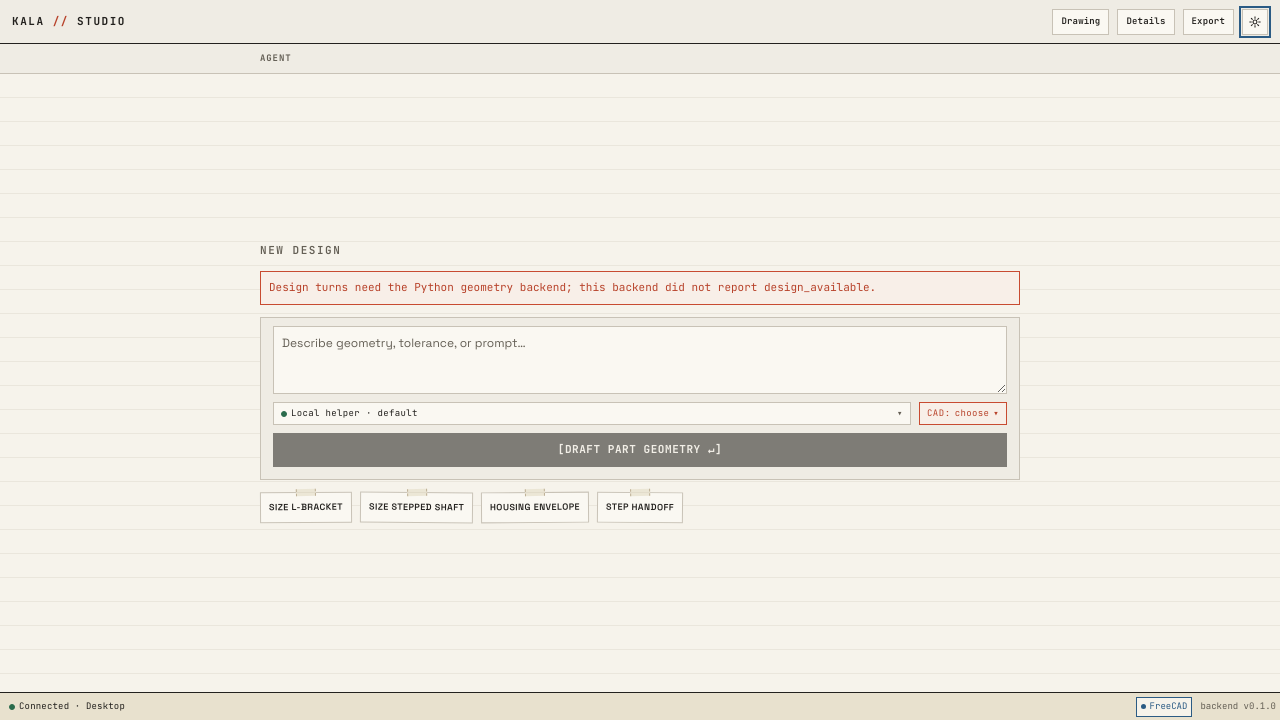
Settings dialog › renders the four sections with the existing panels reachable
Click the button named "Settings". click: (1255, 22)
box: left=1242, top=8, right=1268, bottom=34
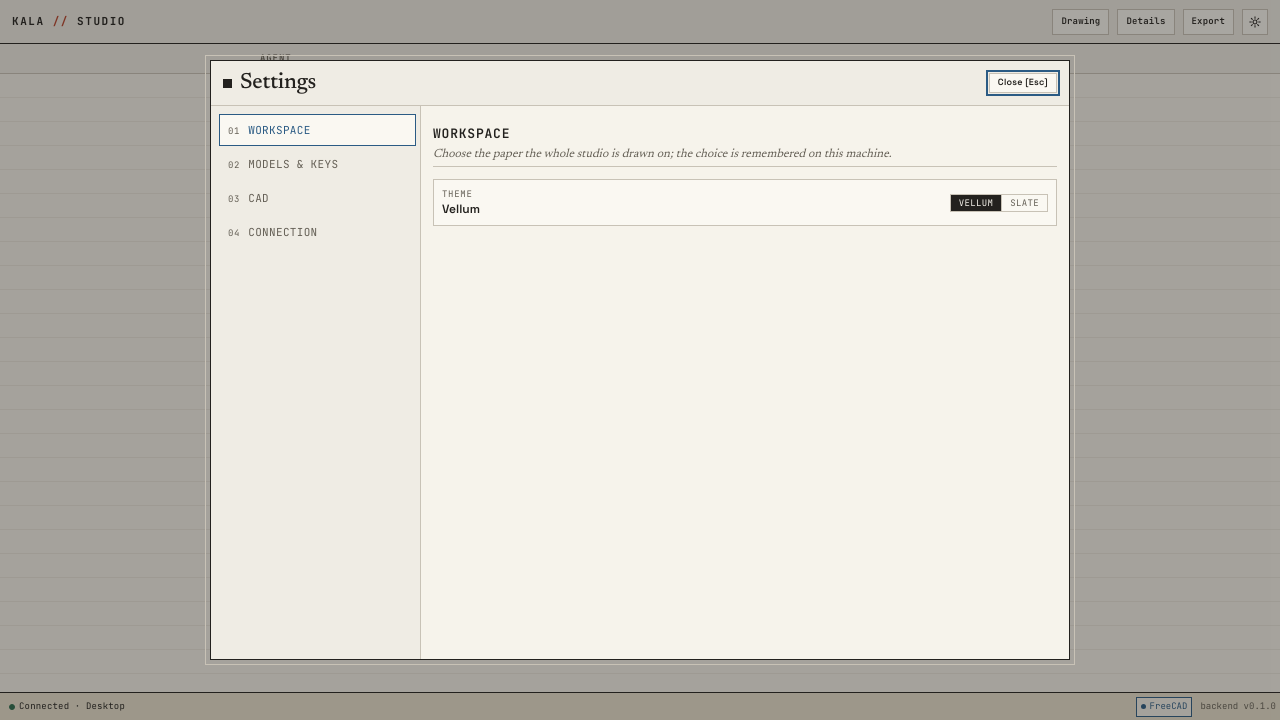
expect the dialog with class "settings-dialog" is shown: met, box left=210, top=60, right=1070, bottom=660
expect the element with class "settings-theme-switch" is shown: met, box left=950, top=194, right=1048, bottom=212
Click the tab with class "settings-nav-item" showing "02 Models & keys". click: (318, 164)
box: left=219, top=148, right=416, bottom=180
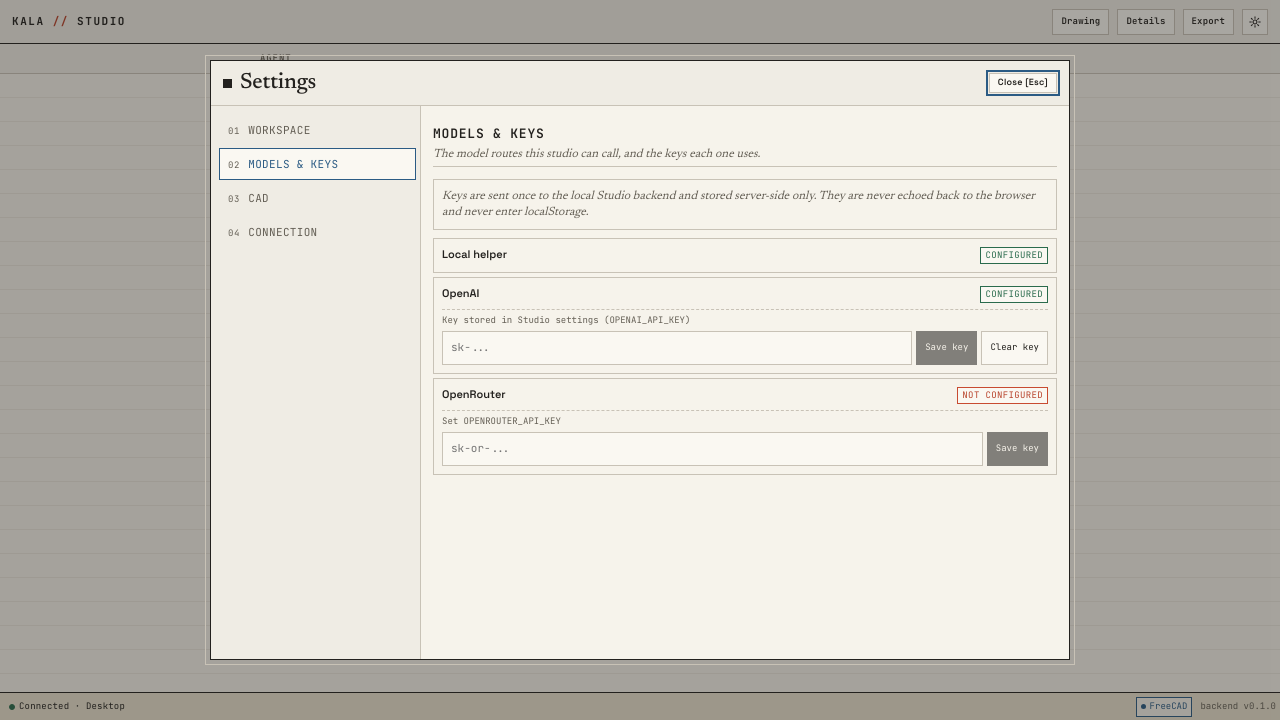
expect the list is shown: met, box left=433, top=238, right=1057, bottom=475
expect the dialog with class "settings-dialog" shows "never echoed back to the browser": met, box left=442, top=190, right=1035, bottom=218
Click the tab with class "settings-nav-item" showing "03 CAD". click: (318, 198)
box: left=219, top=182, right=416, bottom=214
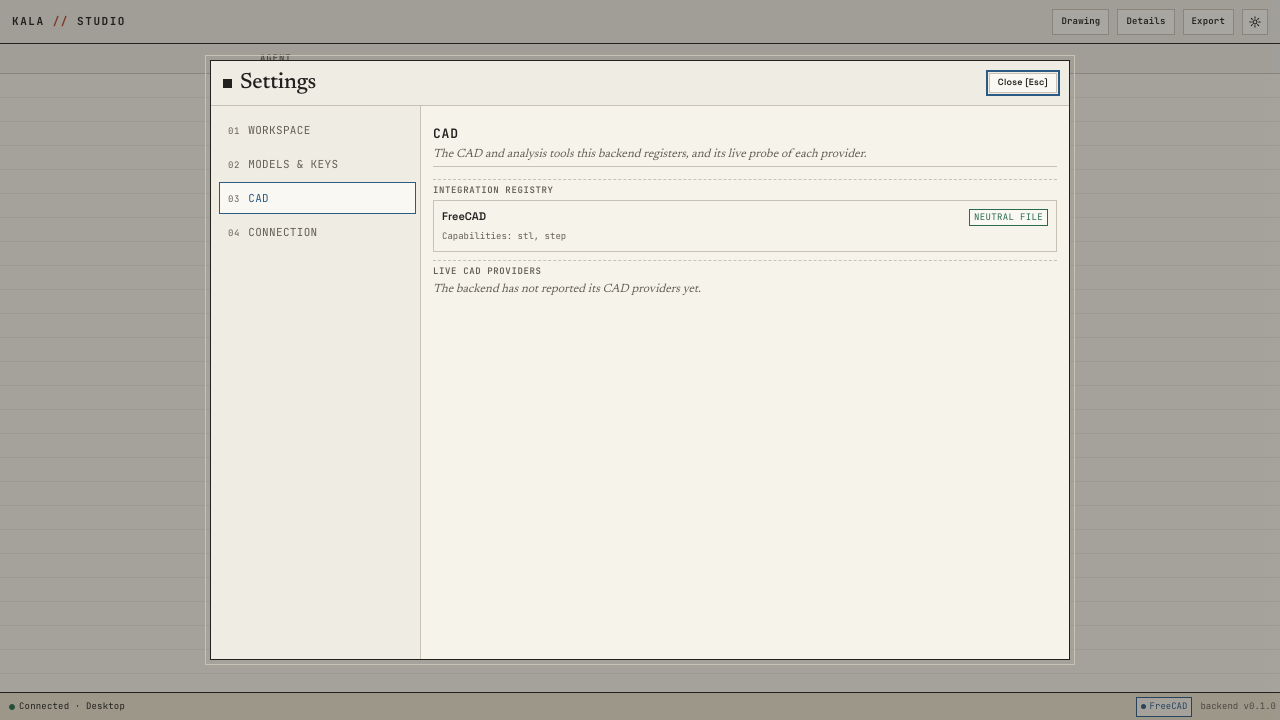
expect the list is shown: met, box left=433, top=200, right=1057, bottom=252
Click the tab with class "settings-nav-item" showing "04 Connection". click: (318, 232)
box: left=219, top=216, right=416, bottom=248
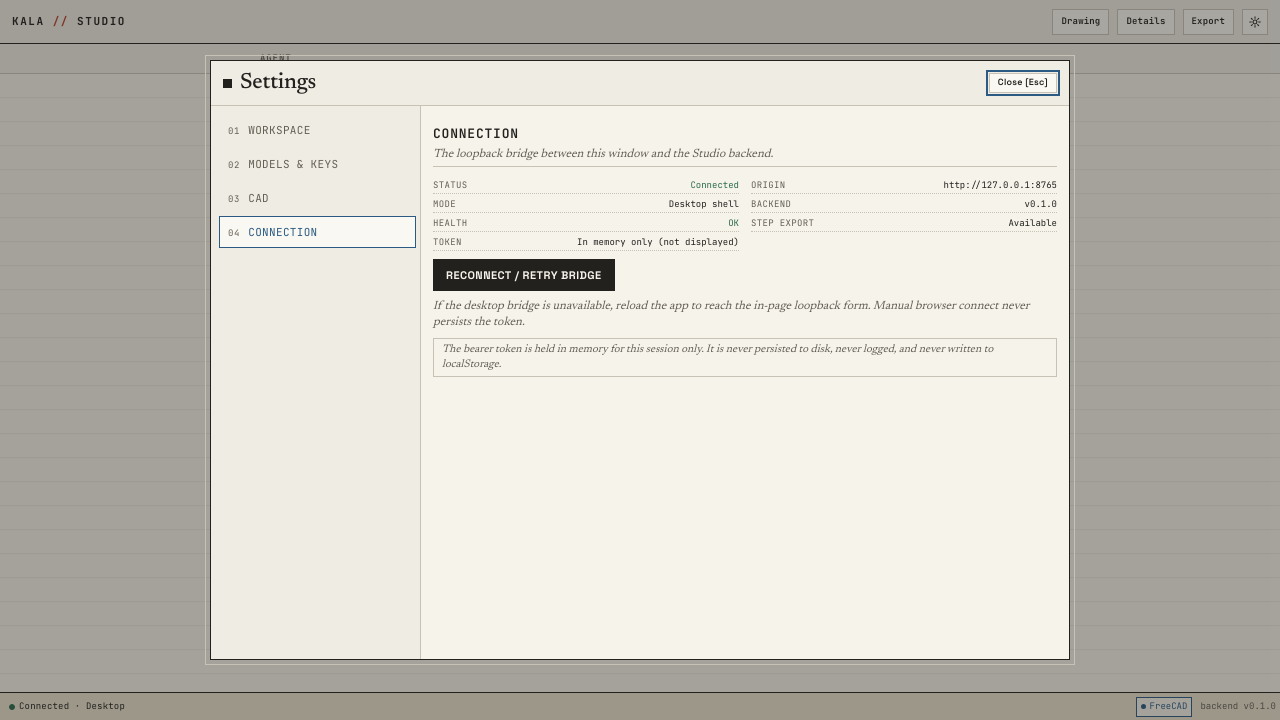
expect the dialog with class "settings-dialog" shows "http://127.0.0.1:8765": met, box left=944, top=179, right=1057, bottom=191
expect the dialog with class "settings-dialog" shows "In memory only (not displayed)": met, box left=577, top=236, right=739, bottom=248
